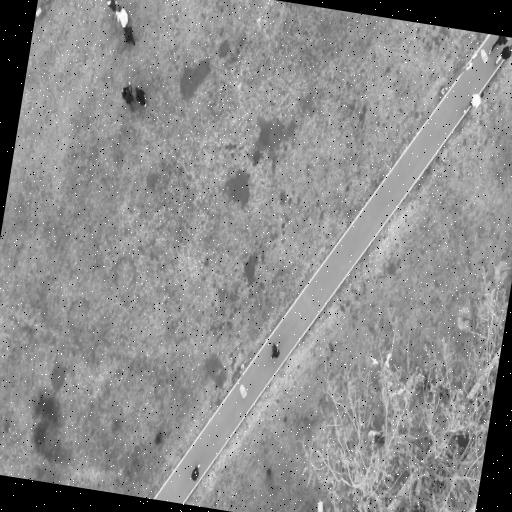person: (463, 92, 483, 112), (121, 81, 133, 111), (495, 44, 511, 63), (489, 36, 507, 51), (116, 4, 127, 27), (135, 87, 145, 106), (124, 25, 134, 43), (106, 0, 116, 16), (190, 463, 198, 479), (271, 342, 278, 358)
